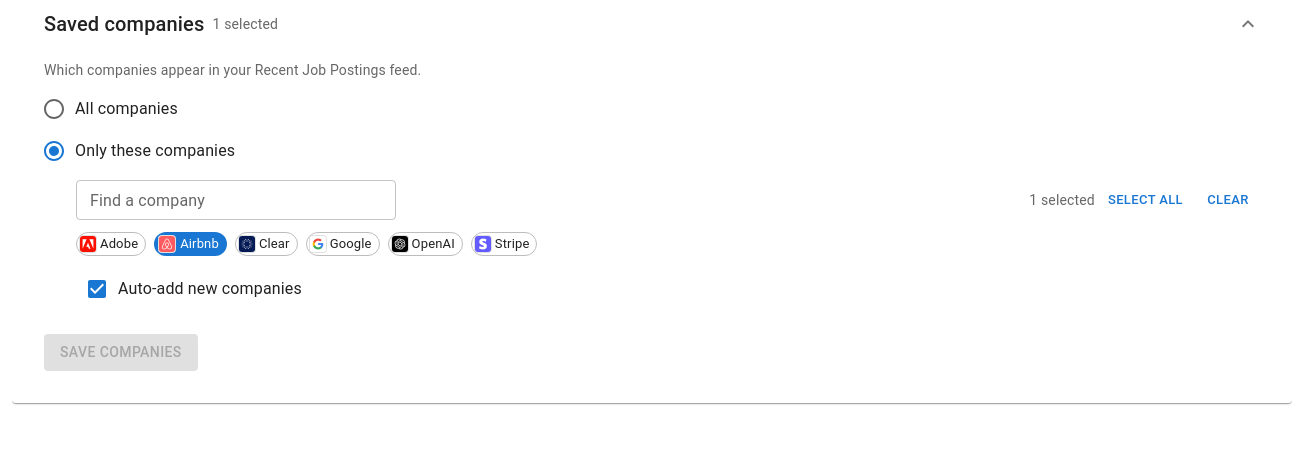
Test: EnabledCompaniesSection › Select all picks every company and Clear empties the list
The width and height of the screenshot is (1304, 453).
Step 1. Click the button with aria-label "select all companies" → [1145, 200], box [1103,185,1188,215]
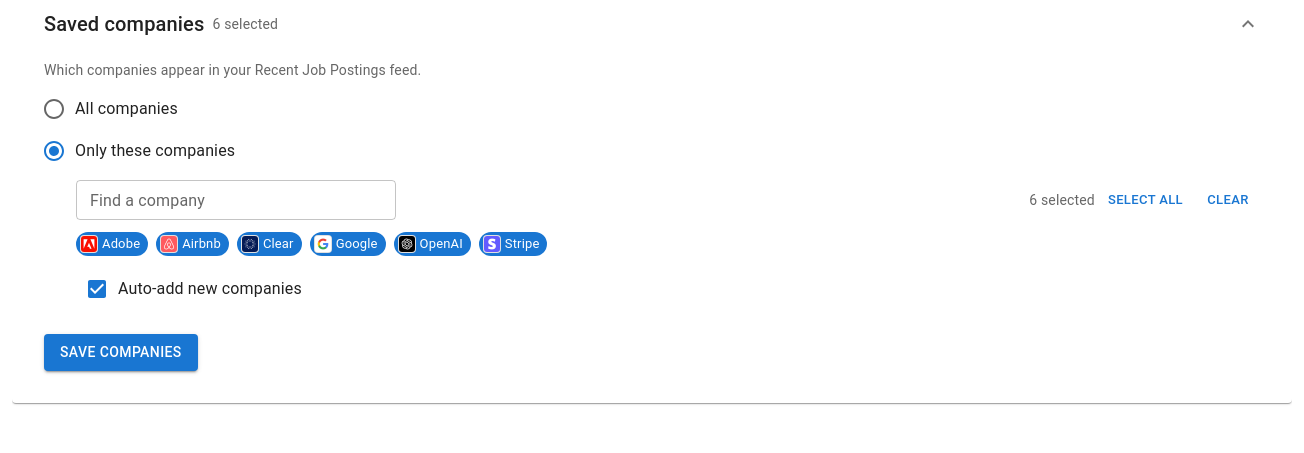
Now the button "Save companies" is enabled, box [44,334,198,370]
Step 2. Click the button with aria-label "clear selected companies" → [1228, 200], box [1196,185,1260,215]
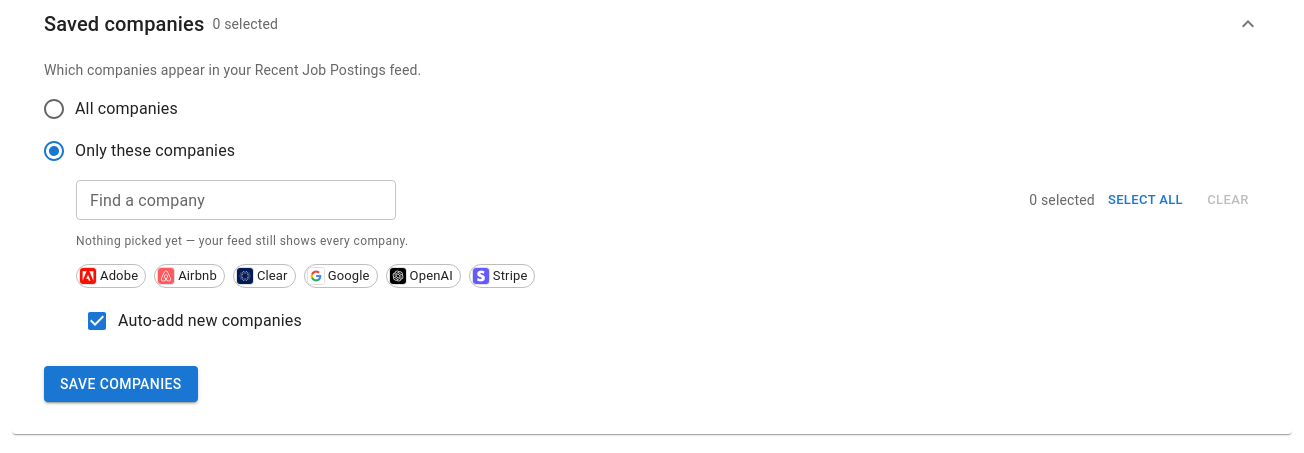
Now the text with test id "saved-companies-summary" reads "0 selected", box [212,16,278,32]
Now the button with aria-label "clear selected companies" is disabled, box [1196,185,1260,215]
